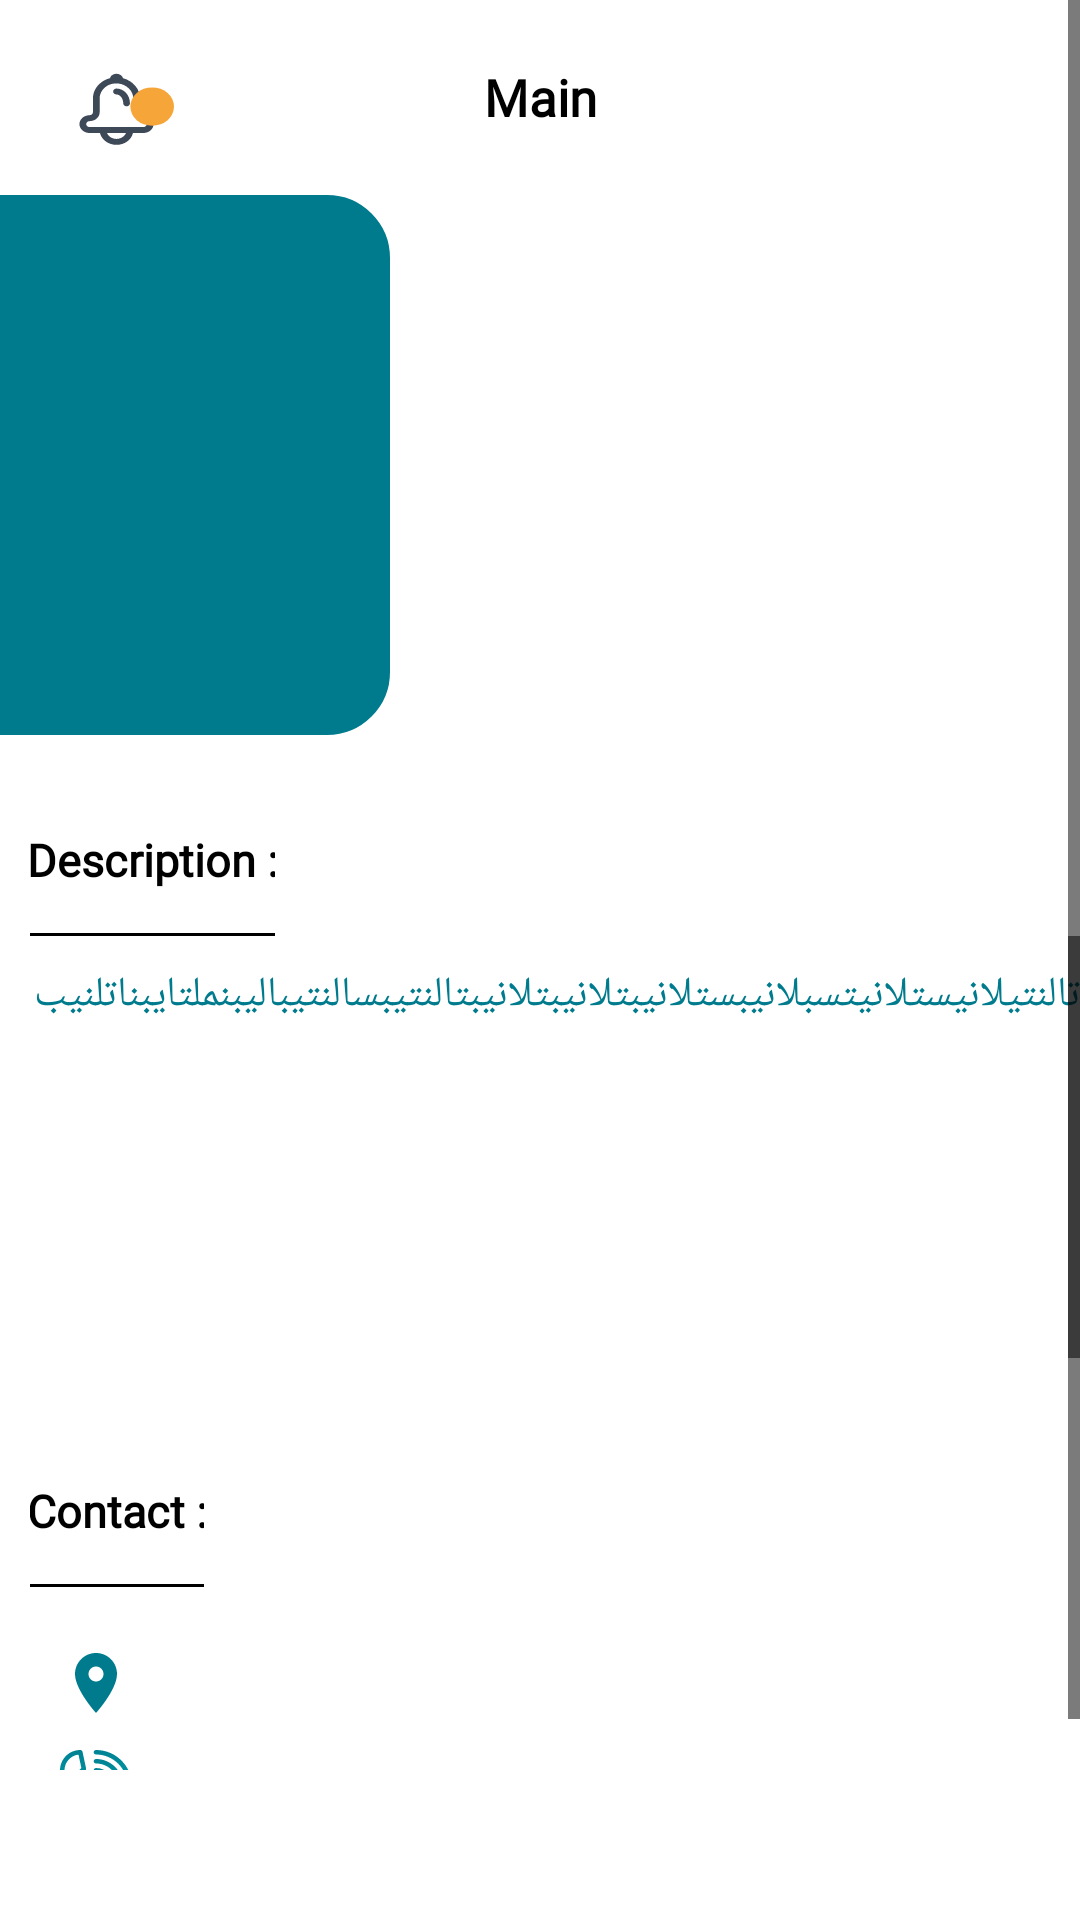

Icons on this 1080px x 1920px Android screen, each with its box as box(x1, y1, x2, y2):
notifications: box(79, 73, 174, 145)
